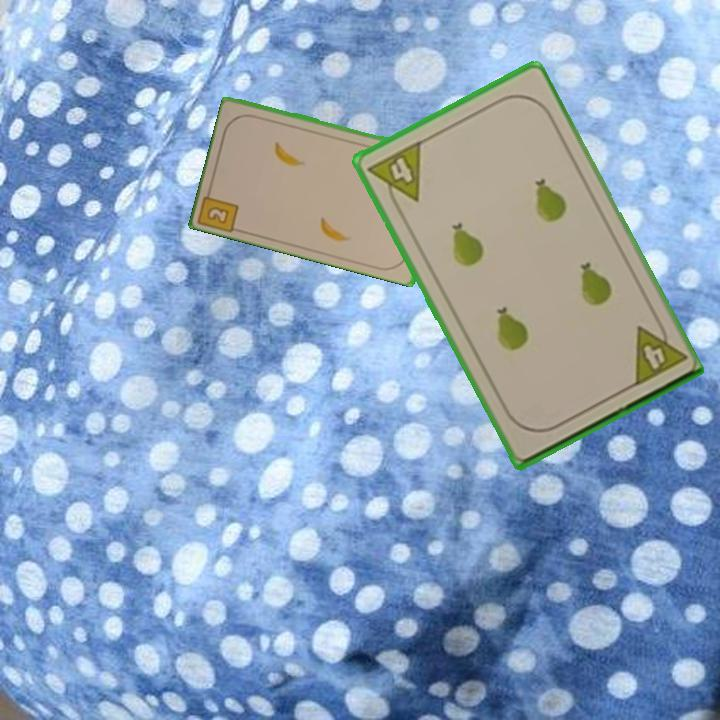2b: (197, 182, 242, 234)
4p: (364, 137, 424, 214), (628, 314, 688, 390)
